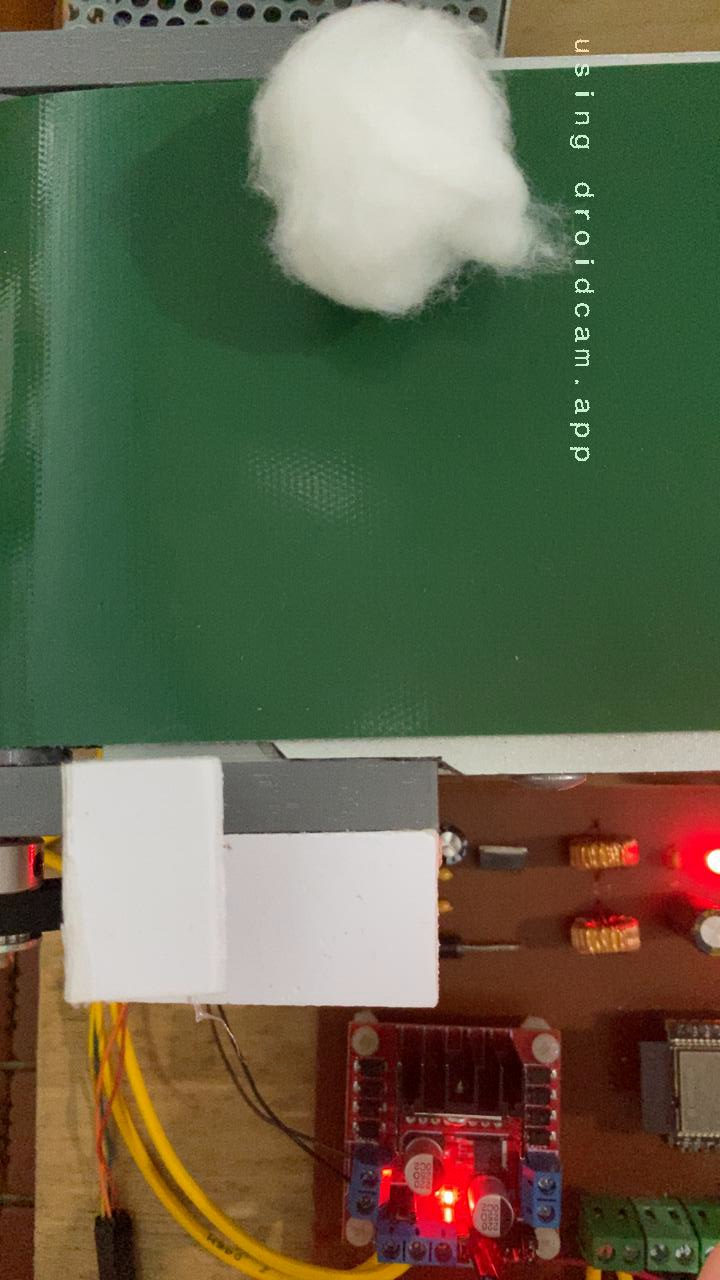cotton: (245, 79, 567, 321)
